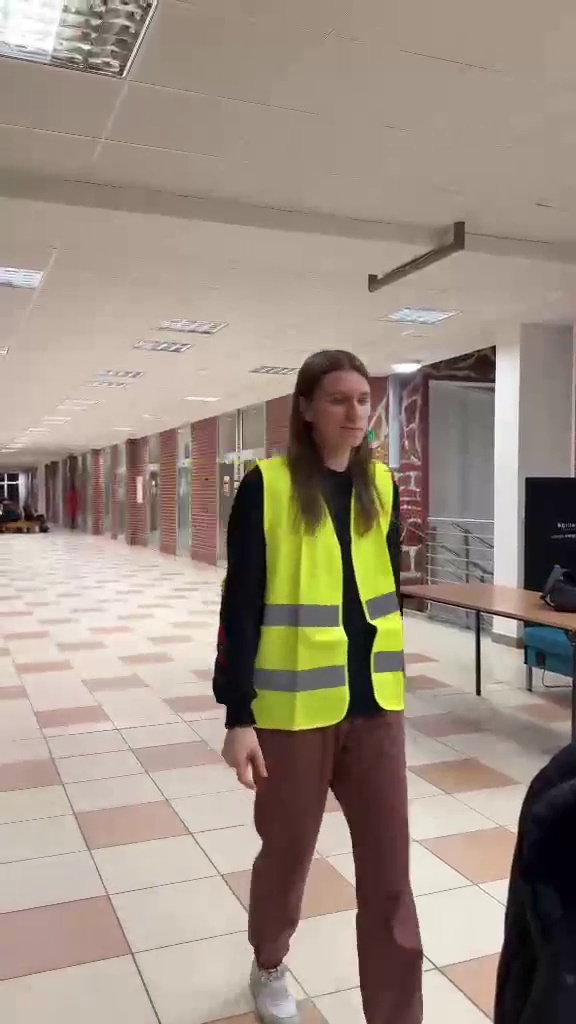vest: (216, 363, 423, 996)
